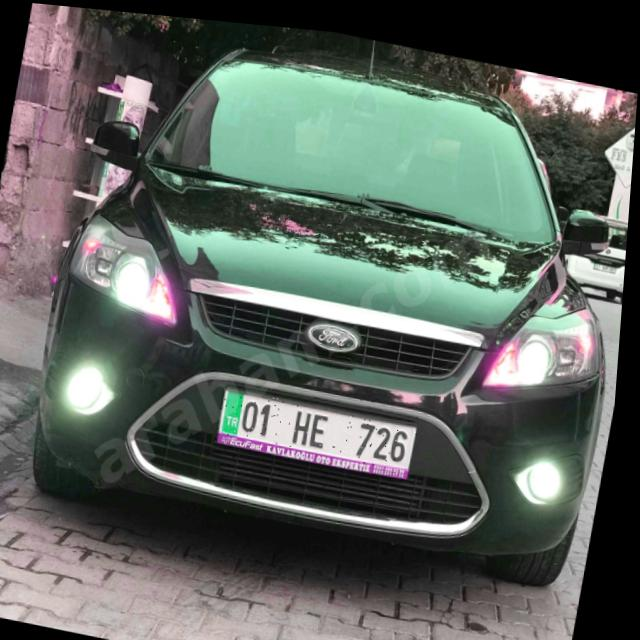license_plate: (221, 382, 424, 463)
